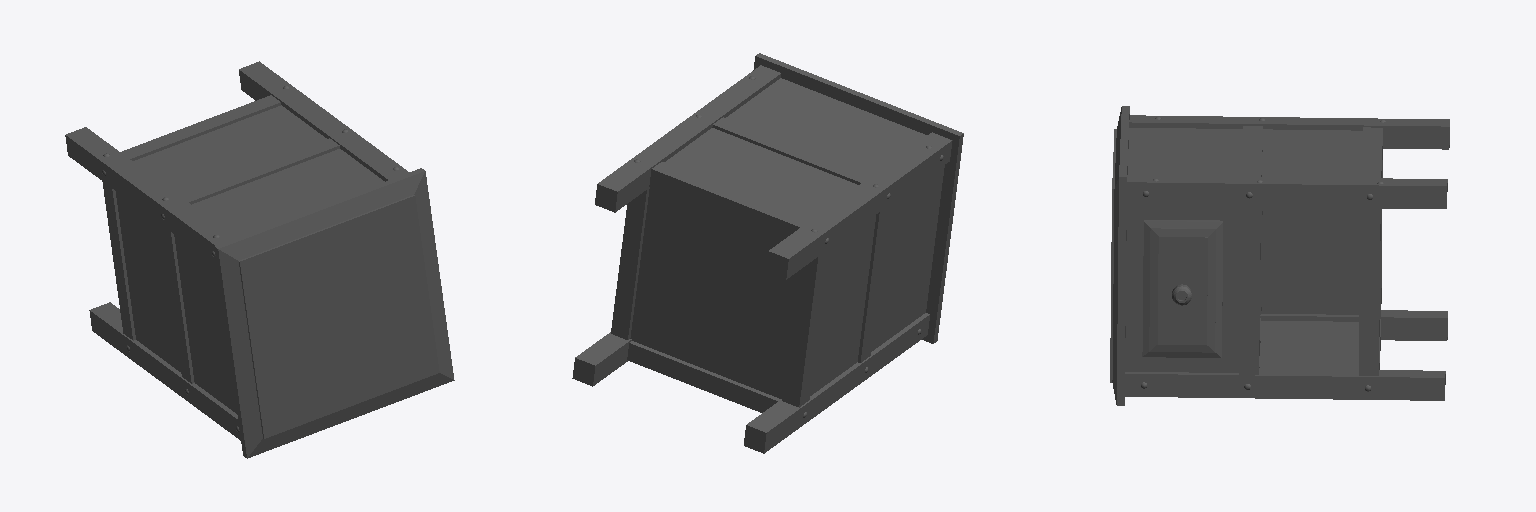
The model's file is night.obj.
3 views of the same model, side by side, from view 1: azimuth 30°, elevation 25°; view 2: azimuth 150°, elevation 25°; view 3: azimuth 270°, elevation 25° (orthographic).
Parts seen in each view (by area): view 1: Drawer_top_Cube.004, Side_walls_Cube.005, Leg_Cube.002, Truss__Cube.017; view 2: Side_walls_Cube.005, Base_2_Cube.016, Leg_Cube.002, Truss__Cube.017, Drawer_top_Cube.004; view 3: Leg_Cube.002, Side_walls_Cube.005, Door_Cube.013, Truss__Cube.017, truss_2_Cube.010, Drawer_top_Cube.004, truss_3_Cube.007.
Part boxes in pixels (x1,y1,x2,y2): Drawer_top_Cube.004: (214,168,454,458); Side_walls_Cube.005: (116,105,384,413); Leg_Cube.002: (65,61,409,440); Truss__Cube.017: (102,95,339,383); Side_walls_Cube.005: (664,78,944,395); Base_2_Cube.016: (630,187,798,398); Leg_Cube.002: (572,65,952,453); Truss__Cube.017: (611,117,889,412); Drawer_top_Cube.004: (753,53,963,343); Leg_Cube.002: (1125,115,1449,400); Side_walls_Cube.005: (1128,128,1362,369); Door_Cube.013: (1142,220,1222,357); Truss__Cube.017: (1239,126,1382,375); truss_2_Cube.010: (1125,205,1240,372); Drawer_top_Cube.004: (1110,106,1129,405); truss_3_Cube.007: (1143,205,1222,372).
Size of the model in its own units: 0.5049 by 0.5049 by 0.6356.